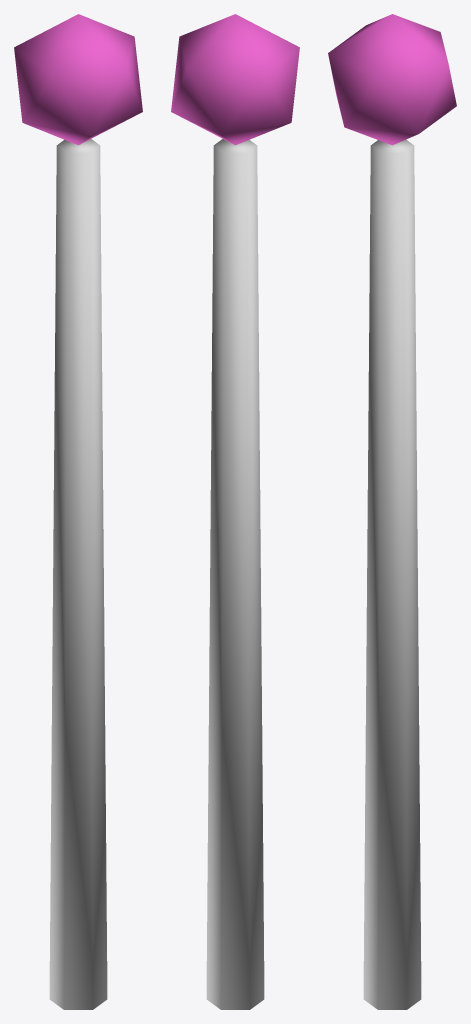
The model's file is nebula_blaze.glb.
3 renders of one model, left to right at view 1: azimuth 30°, elevation 25°; view 2: azimuth 150°, elevation 25°; view 3: azimuth 330°, elevation 25°, orthographic.
Parts seen in each view (by area): view 1: nebula_blaze_v0; view 2: nebula_blaze_v0; view 3: nebula_blaze_v0.
Part boxes in pixels (x1,y1,x2,y2): nebula_blaze_v0: (14, 14, 142, 1009); nebula_blaze_v0: (171, 14, 299, 1009); nebula_blaze_v0: (328, 14, 456, 1009).
Size of the model in its own units: 0.0716 by 0.6 by 0.0681.
